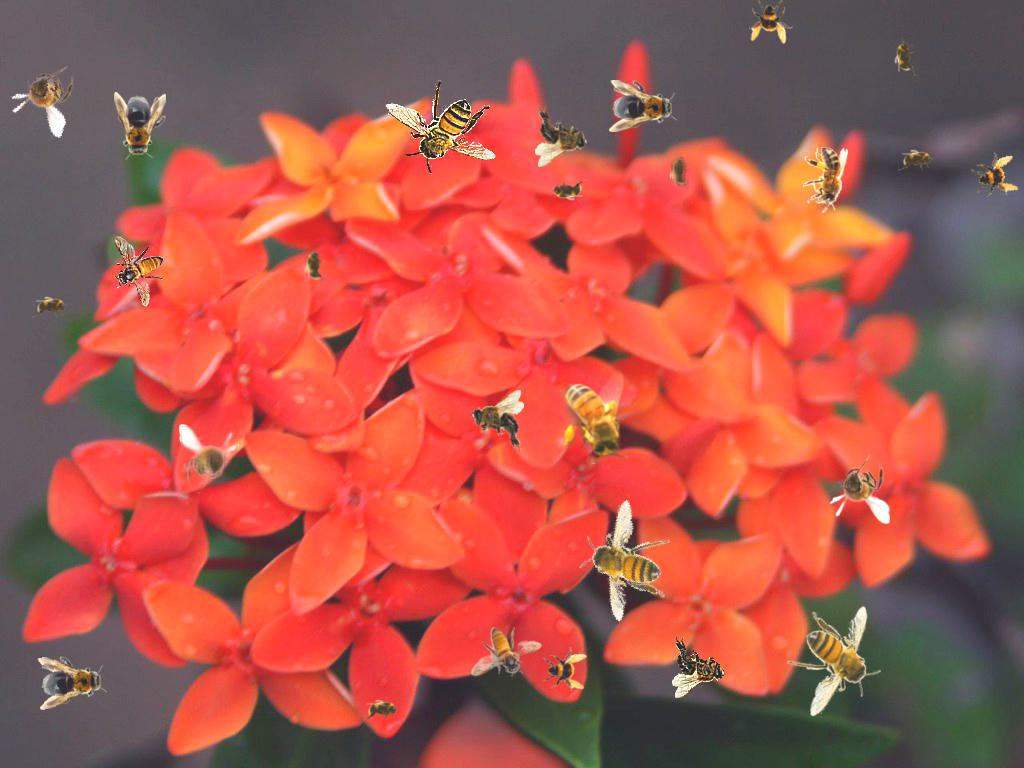Bee: (562, 489, 691, 629), (787, 606, 881, 717), (385, 80, 496, 174), (3, 51, 86, 139), (560, 371, 628, 464), (35, 652, 109, 710), (179, 424, 240, 494), (829, 454, 890, 524), (471, 627, 542, 677), (114, 236, 164, 307), (114, 92, 166, 160), (609, 80, 677, 132), (535, 105, 588, 167), (471, 390, 524, 452), (672, 636, 725, 698), (803, 147, 848, 213), (968, 148, 1022, 202), (543, 647, 587, 691), (749, 0, 793, 44), (894, 36, 916, 76), (363, 699, 403, 721), (669, 151, 691, 191), (547, 179, 587, 201), (304, 245, 326, 285), (32, 296, 72, 318), (898, 149, 938, 171)
